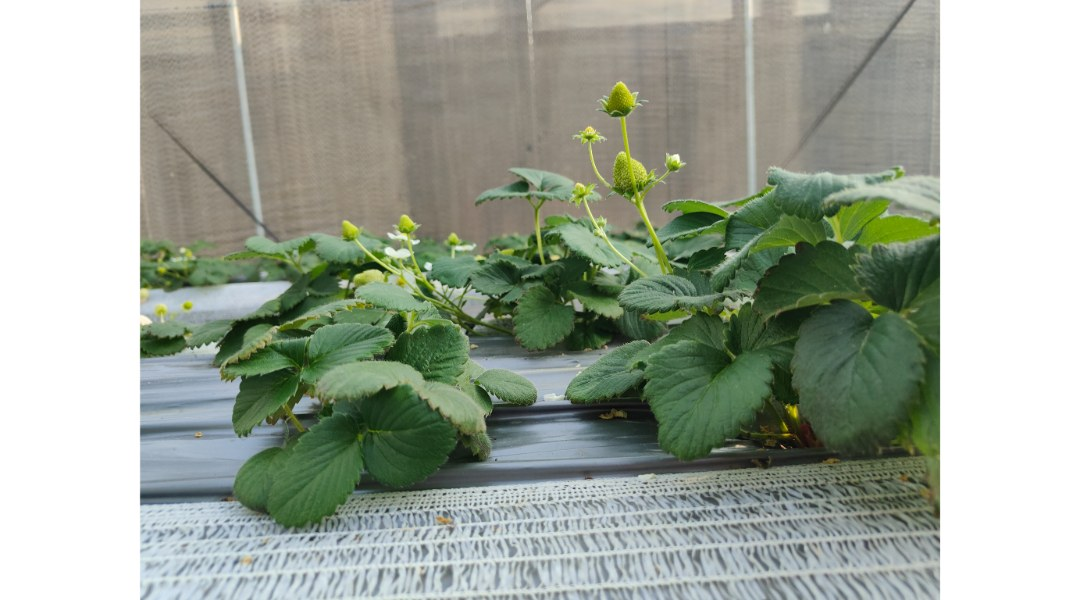berry: (591, 79, 642, 123), (607, 145, 645, 199), (392, 215, 423, 241), (564, 179, 595, 204), (334, 219, 361, 245), (576, 124, 609, 144), (659, 151, 687, 173), (444, 230, 464, 246)
strain: (638, 200, 670, 268), (353, 243, 396, 276), (528, 210, 551, 267), (406, 243, 417, 271)
